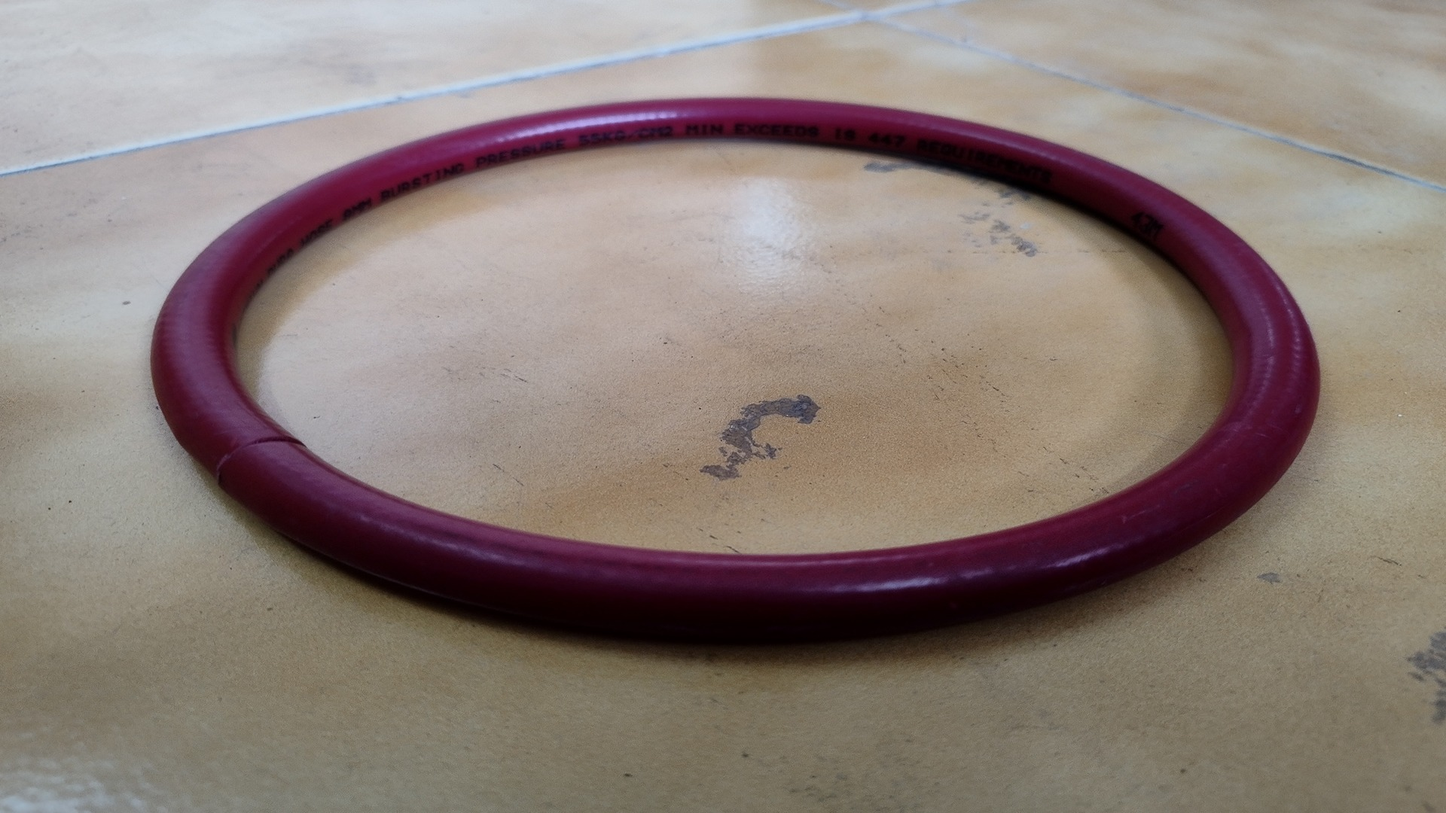Red ring: (154, 98, 1316, 634)
